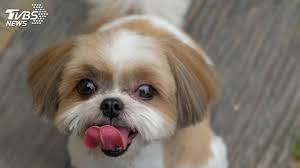dog: (25, 25, 216, 159)
